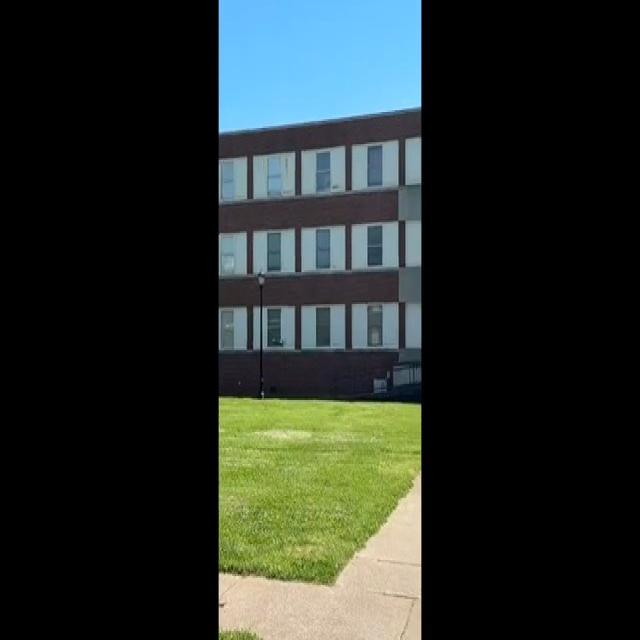drone: (266, 326, 292, 360)
